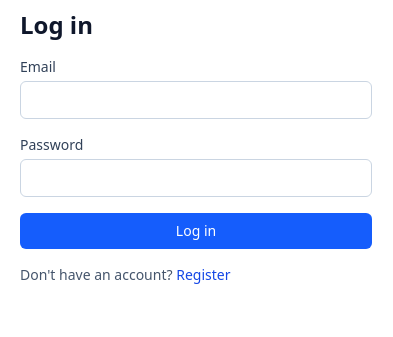
Test: LoginForm › shows one generic failure message regardless of the underlying error, never revealing account existence
Type "nobody@example.org" into the field labelled "Email" at (196, 100), box [20,81,372,119]
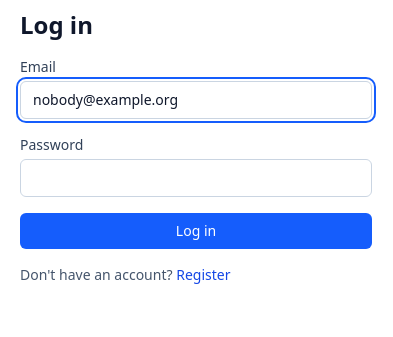
Type "whatever123" into the password field labelled "Password" at (196, 178), box [20,159,372,197]
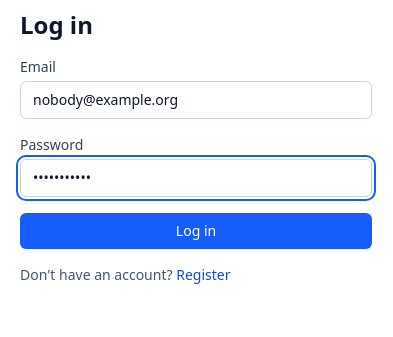
Click the button "Log in" at (196, 231), box [20,213,372,249]
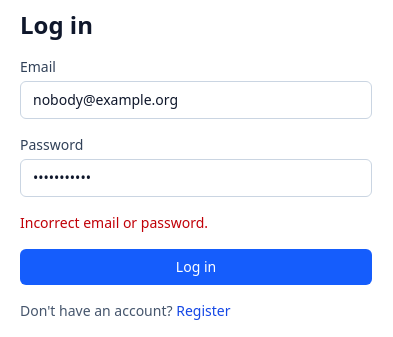
Check: the message reads "Incorrect email or password.", box [20,213,208,232]
